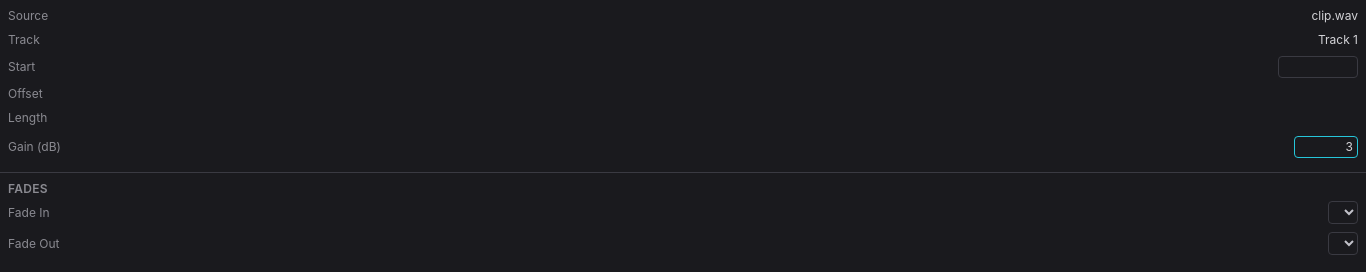
PropertiesPanel (multitrack view) › Escape reverts the draft to the committed value and blurs without committing (Task F8)
Replace the text in the field labelled "Gain (dB)" with "-12" at (1326, 147), box [1294,136,1358,158]
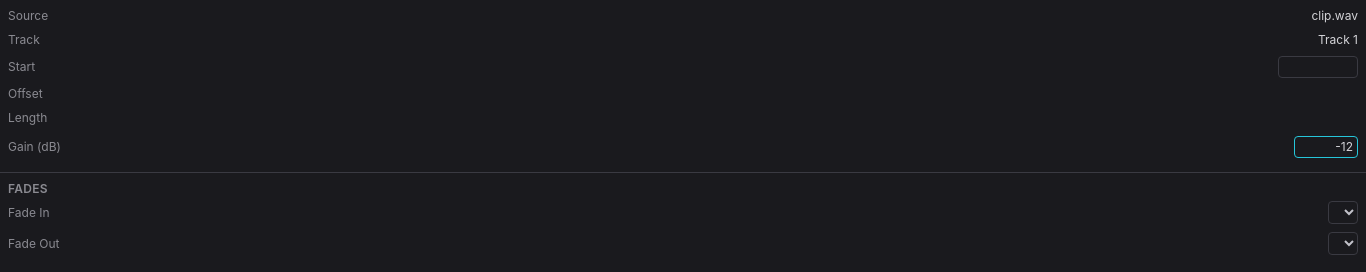
Press Escape in the field labelled "Gain (dB)", box [1294,136,1358,158]
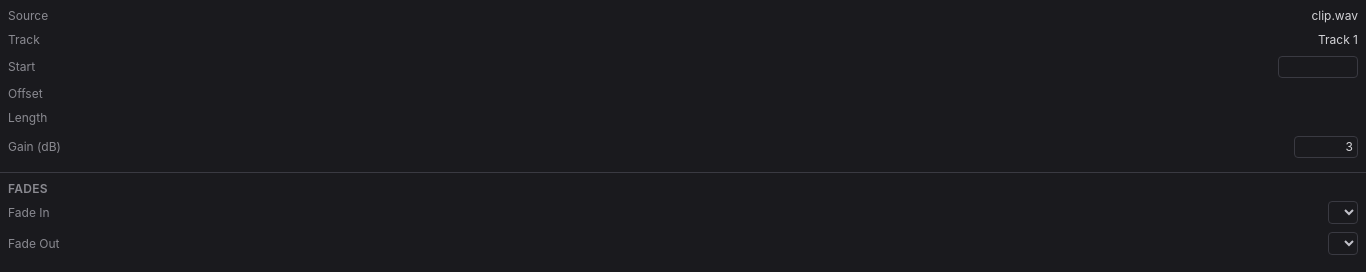
Check: the field labelled "Gain (dB)" holds "3", box [1294,136,1358,158]
